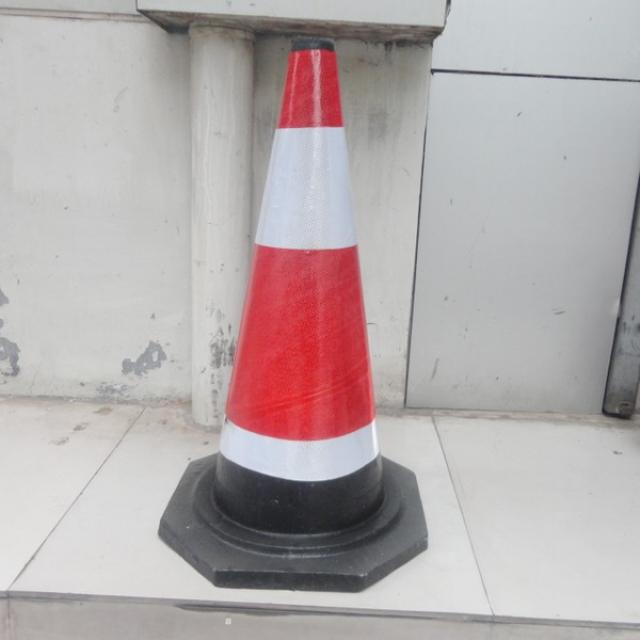reflective_cone: (150, 34, 431, 594)
